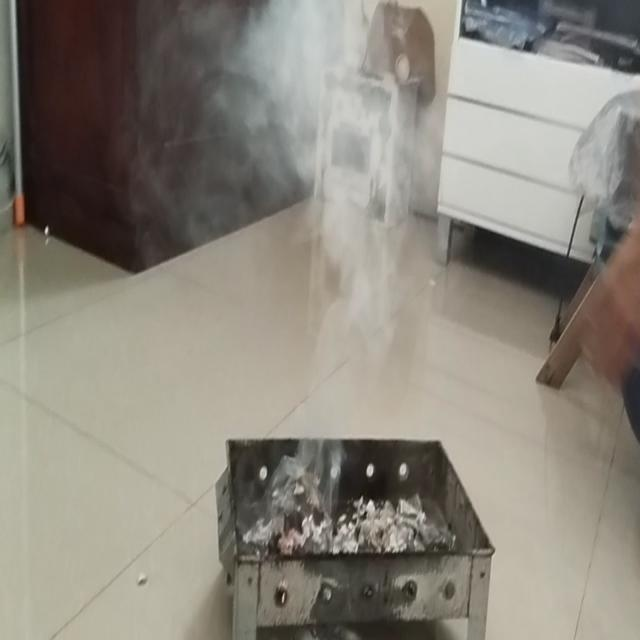smoke: (236, 0, 429, 329)
